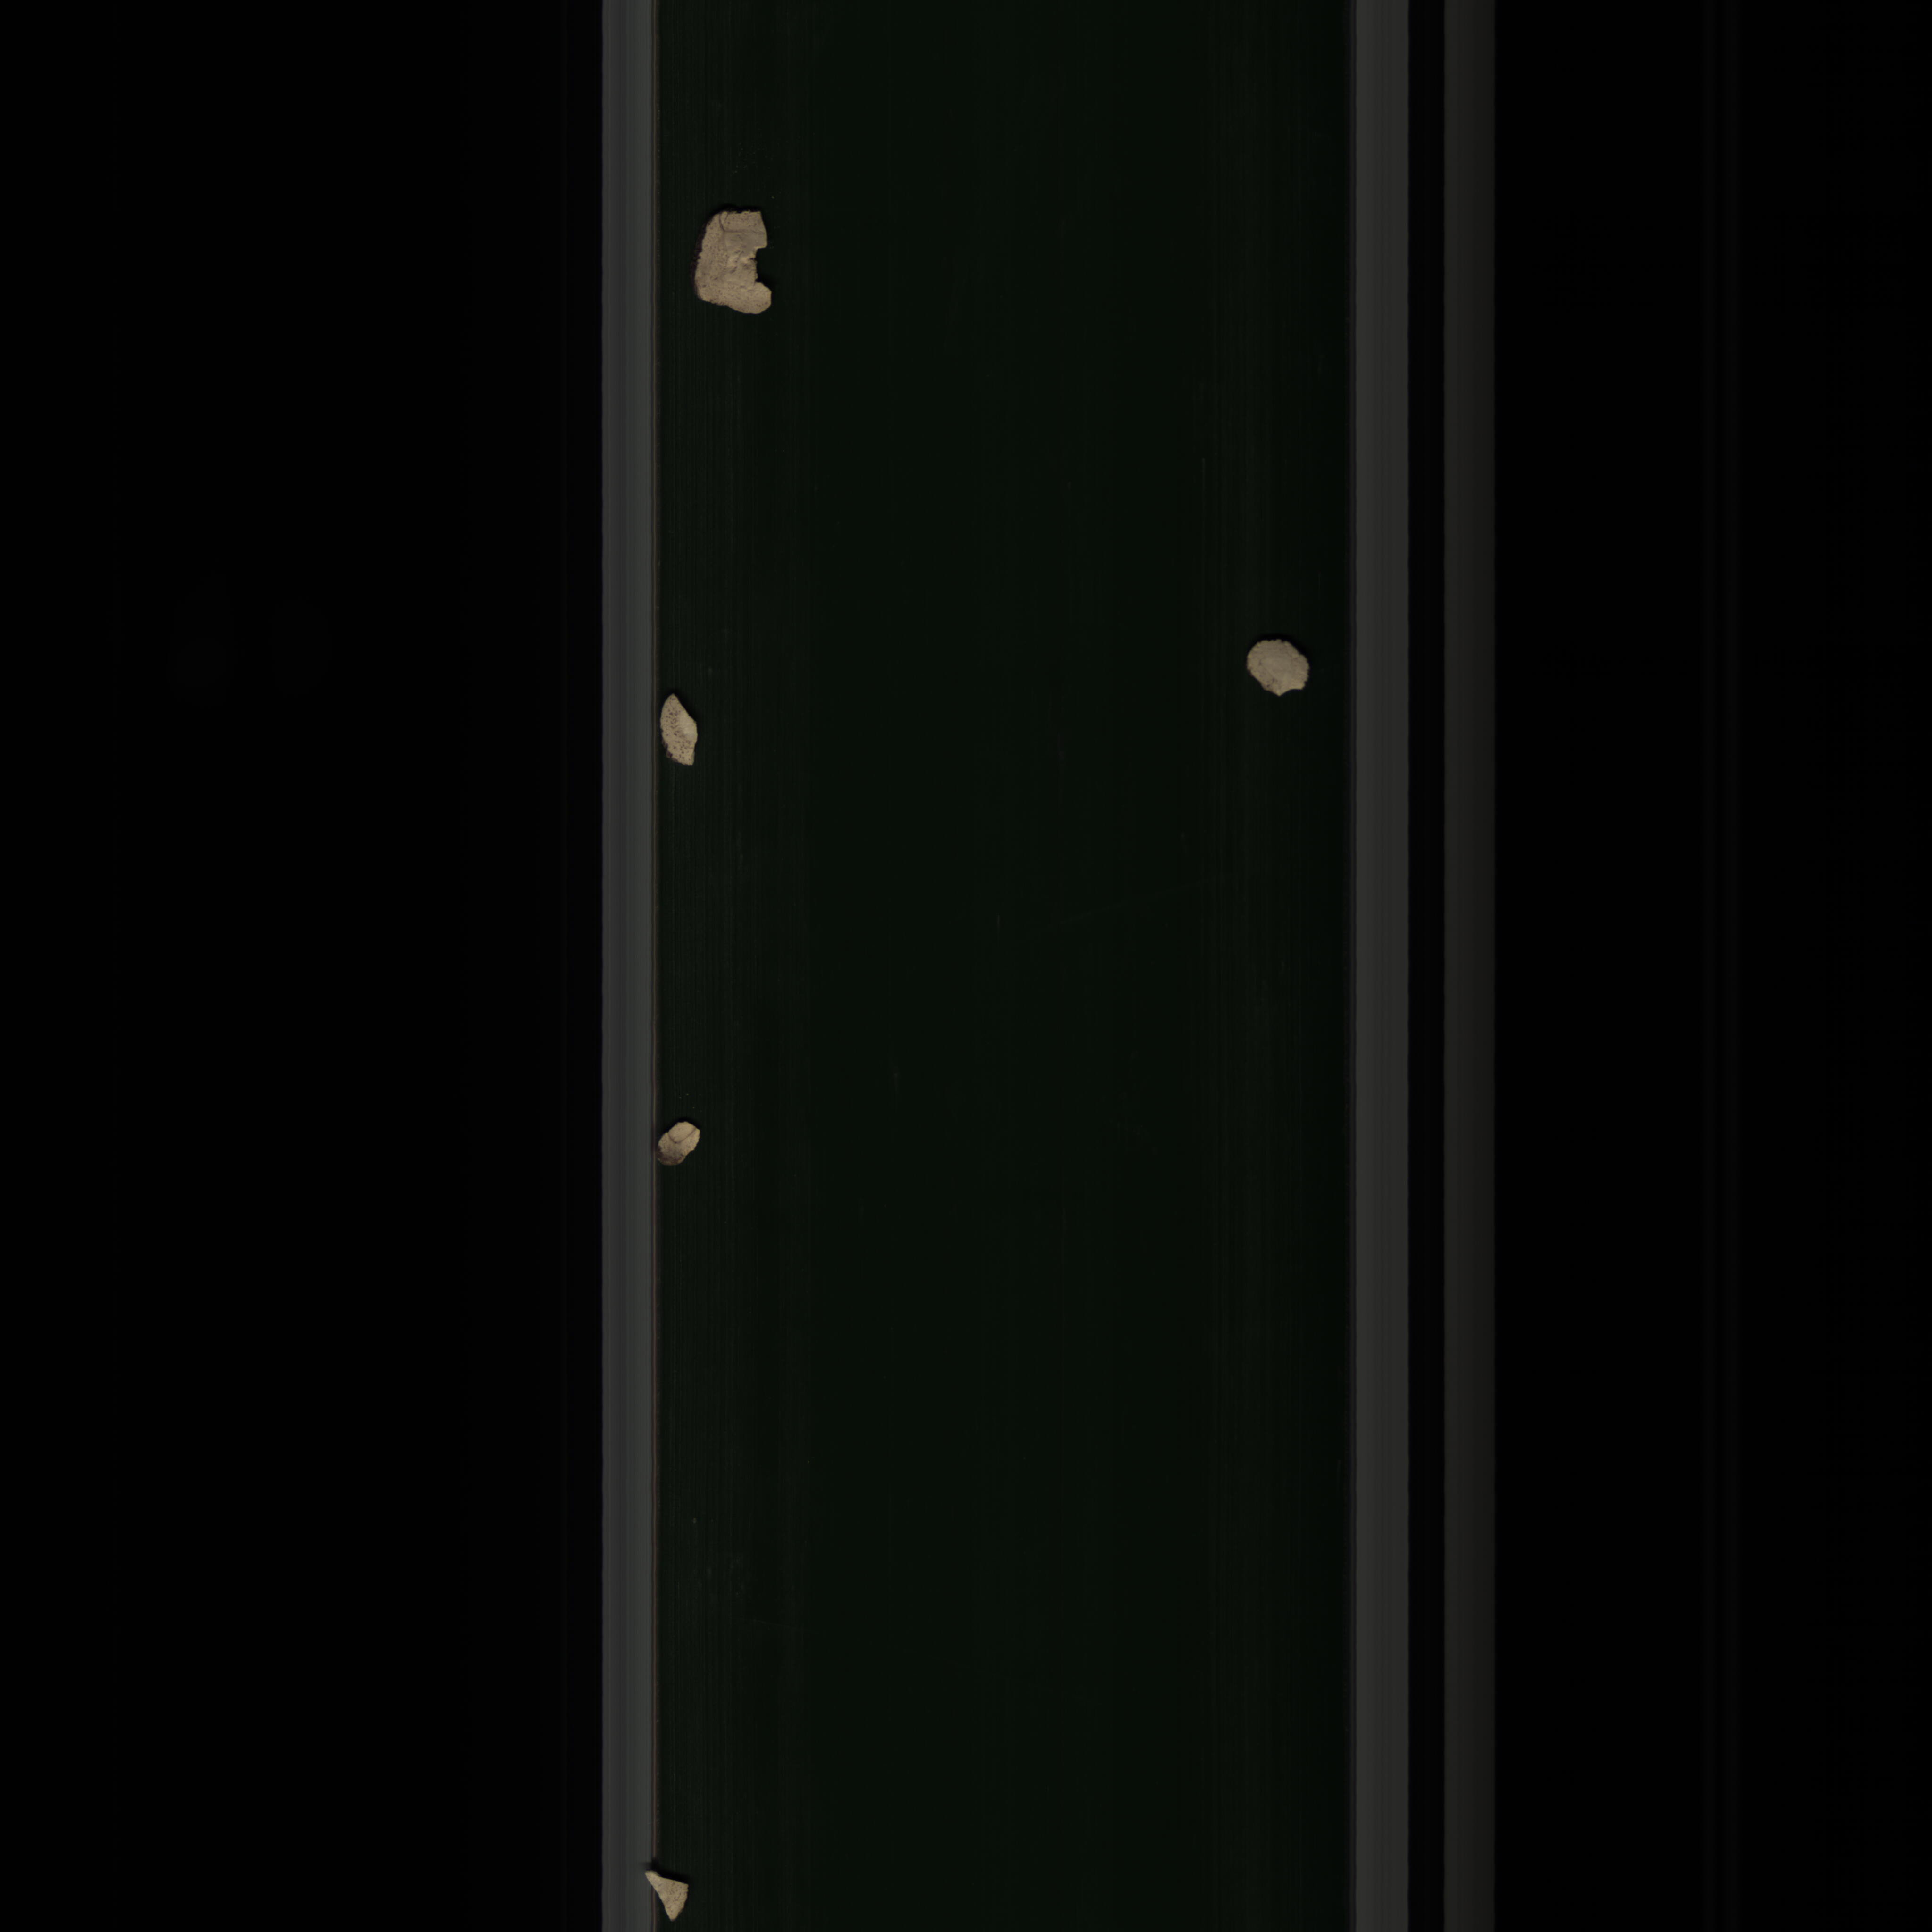debris: (695, 188, 800, 354), (1237, 630, 1316, 709), (637, 1858, 717, 1930), (653, 683, 706, 780), (655, 1099, 720, 1173)
